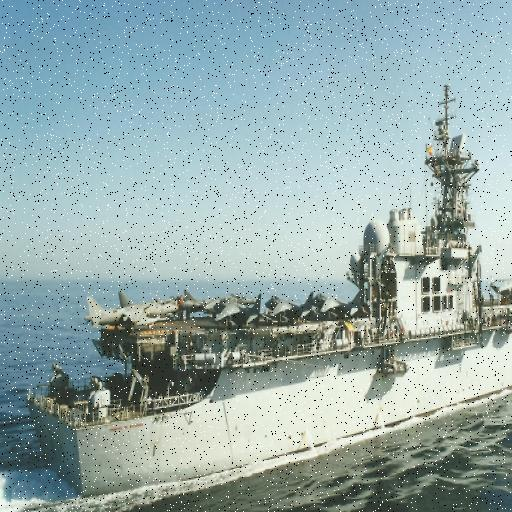Portanaves: (22, 66, 512, 512)
